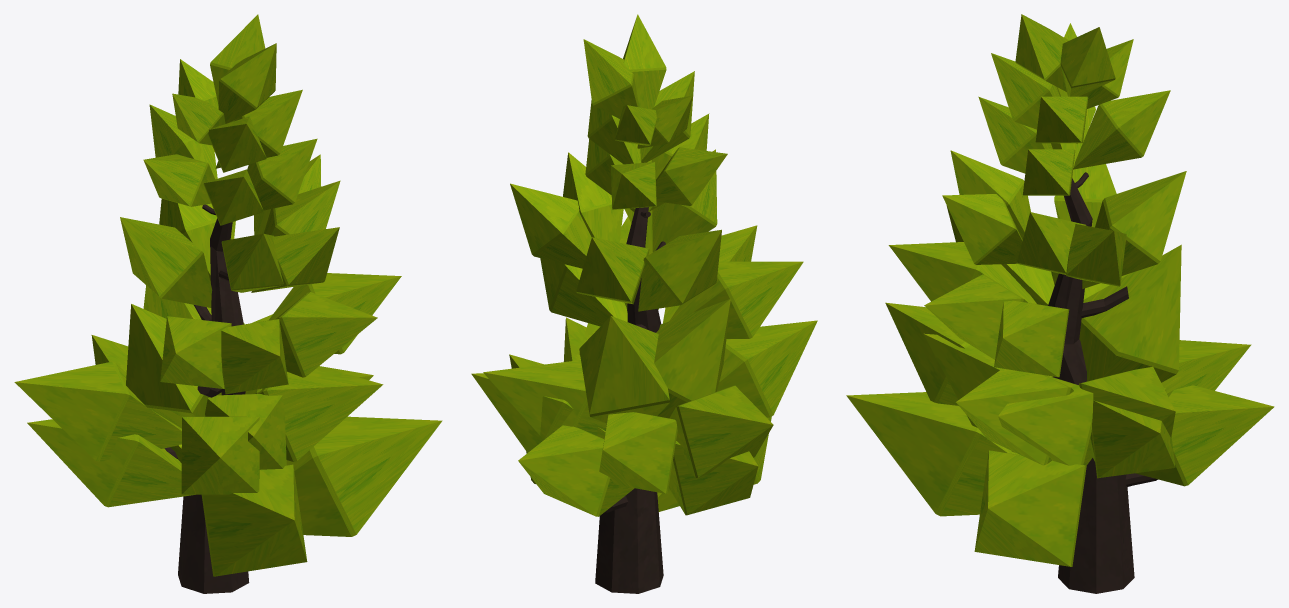
Rendered from tree-bright-green-flowers_6.fbx.
3 renders of one model, left to right at view 1: azimuth 30°, elevation 25°; view 2: azimuth 150°, elevation 25°; view 3: azimuth 270°, elevation 25°, orthographic. The views are drawn at different scales.
Parts seen in each view (by area): view 1: Cube.006; view 2: Cube.006; view 3: Cube.006.
Part boxes in pixels (bbox=[...]): Cube.006: bbox=[14, 14, 442, 593]; Cube.006: bbox=[471, 14, 817, 593]; Cube.006: bbox=[846, 14, 1274, 593].
Bounding box in the file's own units: 193 × 291 × 196.
